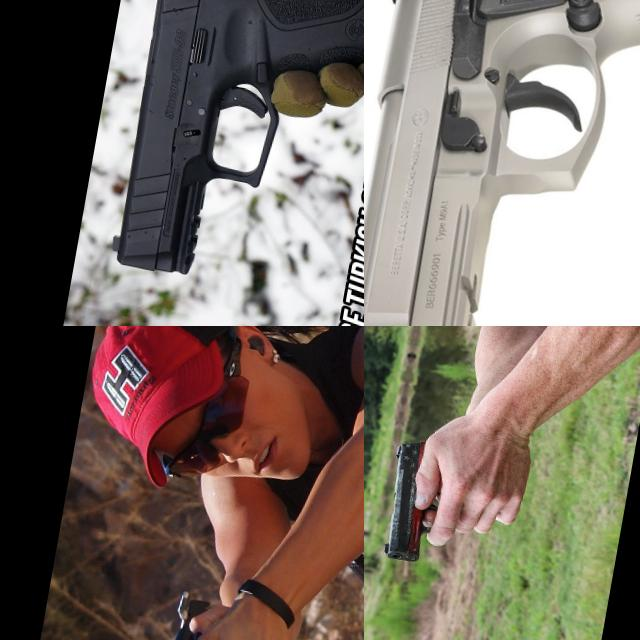handgun: (364, 0, 640, 326), (96, 0, 364, 311), (376, 431, 452, 567), (107, 583, 253, 640)
